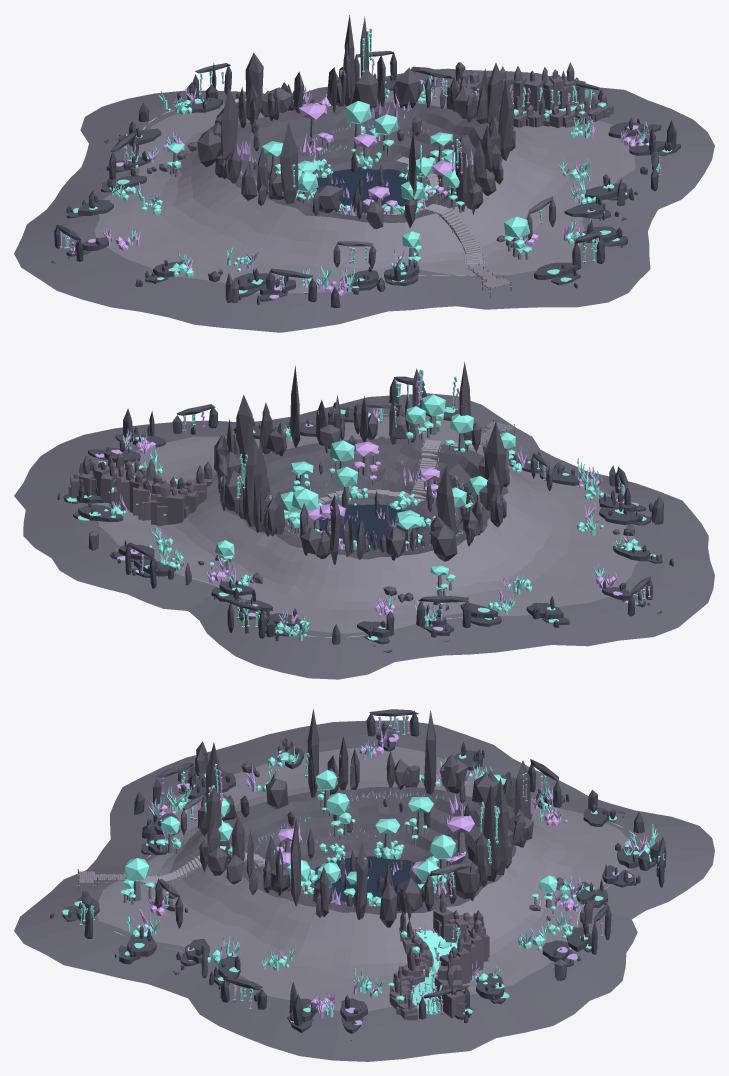
Rendered from island_gloom.glb.
3 renders of one model, top to bottom at view 1: azimuth 30°, elevation 25°; view 2: azimuth 150°, elevation 25°; view 3: azimuth 270°, elevation 25°, orthographic. The views are drawn at different scales.
Visible parts, largest first — view 1: Gloomtrench_Base, Gloomtrench_Spires, Gloomtrench_TidePools, Gloomtrench_GlowCyan, Gloomtrench_GlowViolet, Gloomtrench_Rift, Gloomtrench_DarkWater, Gloomtrench_Stalks, Gloomtrench_Path; view 2: Gloomtrench_Base, Gloomtrench_Spires, Gloomtrench_TidePools, Gloomtrench_GlowCyan, Gloomtrench_Rift, Gloomtrench_GlowViolet, Gloomtrench_Stalks, Gloomtrench_DarkWater, Gloomtrench_Path; view 3: Gloomtrench_Base, Gloomtrench_Spires, Gloomtrench_TidePools, Gloomtrench_GlowCyan, Gloomtrench_Rift, Gloomtrench_GlowViolet, Gloomtrench_Stalks, Gloomtrench_DarkWater, Gloomtrench_Path.
Boxes of the visible parts, <box> form: Gloomtrench_Base: <box>14,68,714,332</box>; Gloomtrench_Spires: <box>147,15,625,303</box>; Gloomtrench_TidePools: <box>51,51,680,307</box>; Gloomtrench_GlowCyan: <box>63,28,671,293</box>; Gloomtrench_GlowViolet: <box>59,32,661,299</box>; Gloomtrench_Rift: <box>446,62,613,127</box>; Gloomtrench_DarkWater: <box>316,167,407,212</box>; Gloomtrench_Stalks: <box>170,107,602,267</box>; Gloomtrench_Path: <box>384,156,482,268</box>; Gloomtrench_Base: <box>14,393,714,679</box>; Gloomtrench_Spires: <box>88,362,663,610</box>; Gloomtrench_TidePools: <box>57,376,673,652</box>; Gloomtrench_GlowCyan: <box>66,369,656,640</box>; Gloomtrench_Rift: <box>68,453,214,526</box>; Gloomtrench_GlowViolet: <box>95,370,650,636</box>; Gloomtrench_Stalks: <box>211,416,513,595</box>; Gloomtrench_DarkWater: <box>313,504,419,548</box>; Gloomtrench_Path: <box>294,439,482,519</box>; Gloomtrench_Base: <box>14,720,714,1061</box>; Gloomtrench_Spires: <box>154,708,593,980</box>; Gloomtrench_TidePools: <box>50,709,666,1040</box>; Gloomtrench_GlowCyan: <box>62,715,664,1022</box>; Gloomtrench_Rift: <box>389,892,489,1020</box>; Gloomtrench_GlowViolet: <box>139,715,649,1025</box>; Gloomtrench_Stalks: <box>123,790,553,1002</box>; Gloomtrench_DarkWater: <box>314,856,419,903</box>; Gloomtrench_Path: <box>133,846,372,906</box>.
Bounding box in the file's own units: 600 × 119 × 521.
